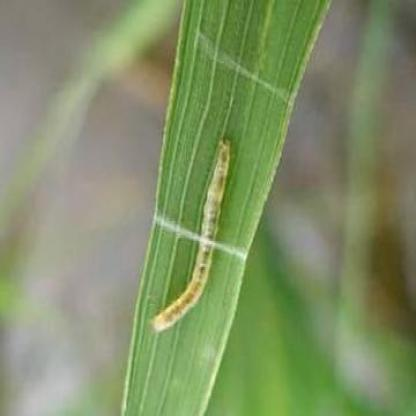leaf-folder: (138, 140, 228, 342)
